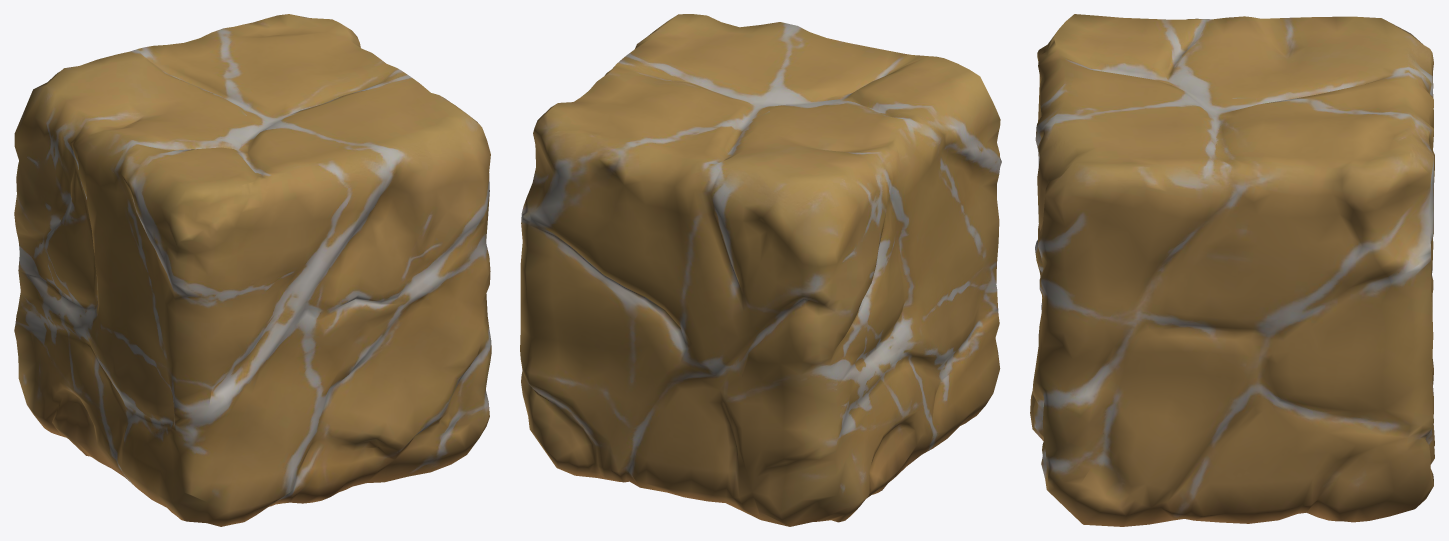
The model's file is original_glb.glb.
The picture shows the model from 3 angles, left to right: view 1: azimuth 30°, elevation 25°; view 2: azimuth 150°, elevation 25°; view 3: azimuth 270°, elevation 25°; orthographic projection. The views are drawn at different scales.
Visible parts, largest first — view 1: tile-128-quartz-vein; view 2: tile-128-quartz-vein; view 3: tile-128-quartz-vein.
Part boxes in pixels (x1=…): tile-128-quartz-vein: x1=14, y1=14, x2=491, y2=526; tile-128-quartz-vein: x1=520, y1=14, x2=1001, y2=526; tile-128-quartz-vein: x1=1030, y1=14, x2=1434, y2=526.
Bounding box in the file's own units: 0.9824 × 0.998 × 0.998.
Materials: 1 (1 with a texture image).
